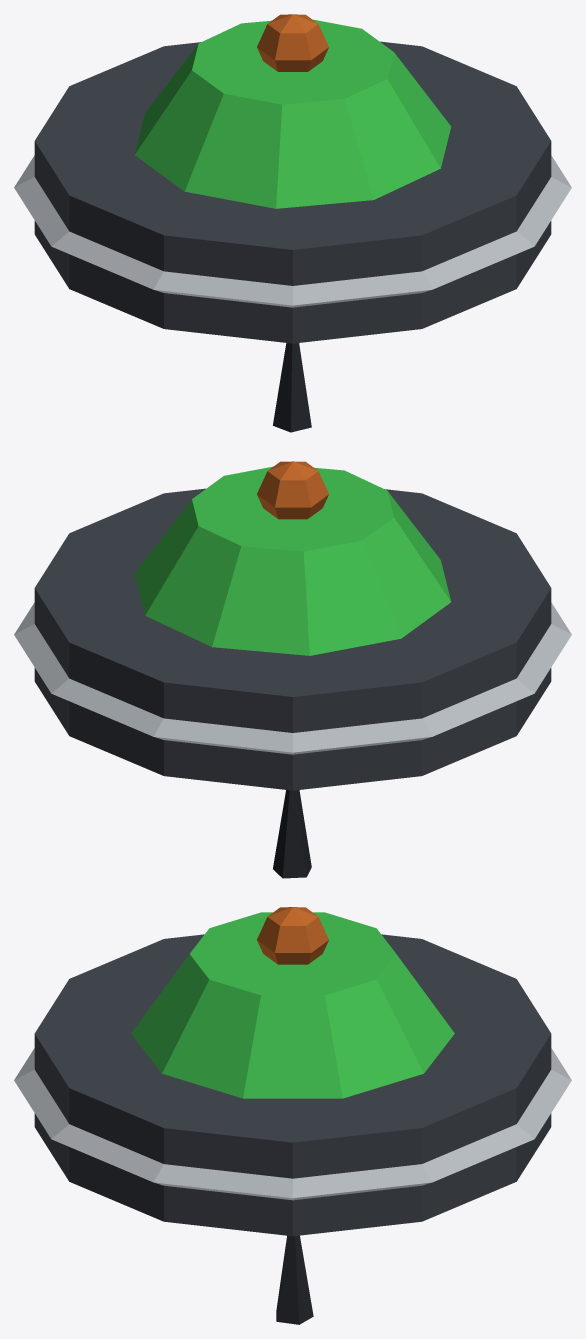
Rendered from mine-corrosive.glb.
3 views of the same model, one above another, from view 1: azimuth 30°, elevation 25°; view 2: azimuth 150°, elevation 25°; view 3: azimuth 270°, elevation 25° (orthographic).
Visible parts, largest first — view 1: m; view 2: m; view 3: m.
Part boxes in pixels (x1,y1,x2,y2): m: (14,14,571,432); m: (14,461,571,878); m: (14,907,571,1324).
Size of the model in its own units: 0.1 by 0.0611 by 0.1.
